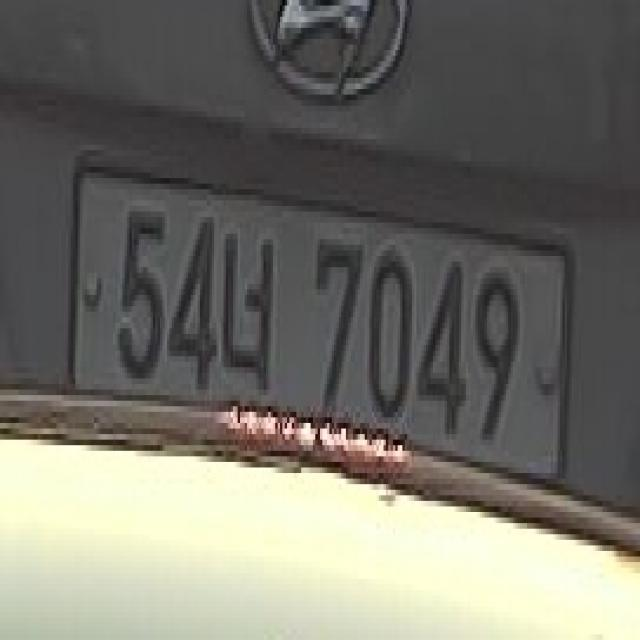0: (362, 212, 422, 434)
4: (158, 189, 226, 412), (416, 233, 476, 440)
5: (113, 178, 176, 412)
7: (299, 195, 367, 417)
9: (466, 240, 520, 468)
license_plate: (54, 145, 577, 506)
neo: (216, 217, 282, 401)
